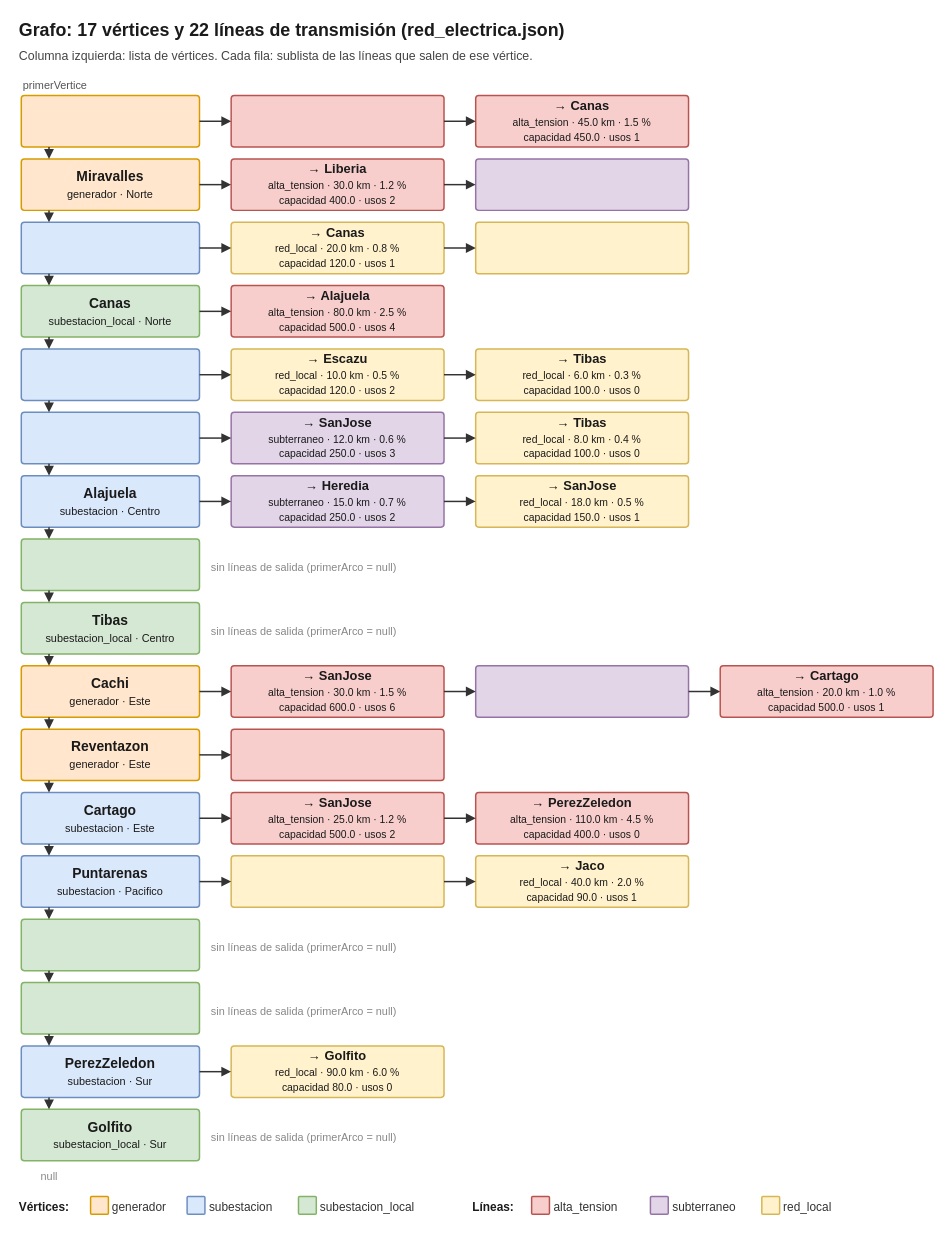
The diagram is 950 pixels wide and 1234 high, and some of its shapes have lost their labels. The box of each missing label's shape, as (x1, y1, x2, y2) in pixels:
Arenal generador · Norte: (20, 94, 200, 147)
Escazu subestacion_local · Centro: (20, 538, 200, 591)
Esparza subestacion_local · Pacifico: (20, 981, 200, 1034)
Heredia subestacion · Centro: (20, 411, 200, 464)
Jaco subestacion_local · Pacifico: (20, 918, 200, 971)
Liberia subestacion · Norte: (20, 221, 200, 274)
SanJose subestacion · Centro: (20, 348, 200, 401)
→ Canas subterraneo · 25.0 km · 1.0 % capacidad 200.0 · usos 0: (475, 158, 689, 211)
→ Cartago alta_tension · 35.0 km · 1.8 % capacidad 550.0 · usos 5: (230, 728, 444, 781)
→ Esparza red_local · 30.0 km · 3.4 % capacidad 80.0 · usos 0: (230, 855, 444, 908)
→ Liberia alta_tension · 60.0 km · 2.0 % capacidad 500.0 · usos 3: (230, 94, 444, 147)
→ Puntarenas red_local · 120.0 km · 9.0 % capacidad 100.0 · usos 0: (475, 221, 689, 274)
→ SanJose subterraneo · 32.0 km · 0.9 % capacidad 300.0 · usos 2: (475, 665, 689, 718)
